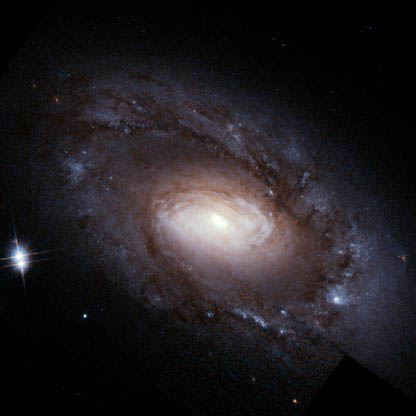NGC 4102: (12, 37, 389, 368)
